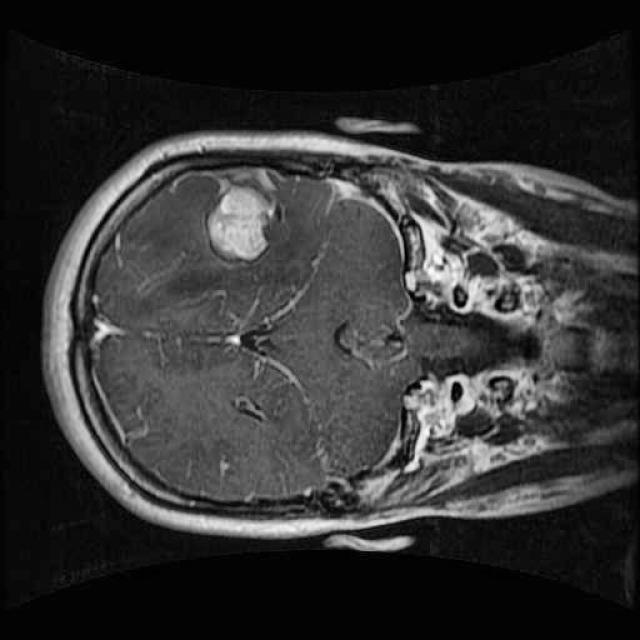Non-Tumor: (192, 160, 295, 272)
